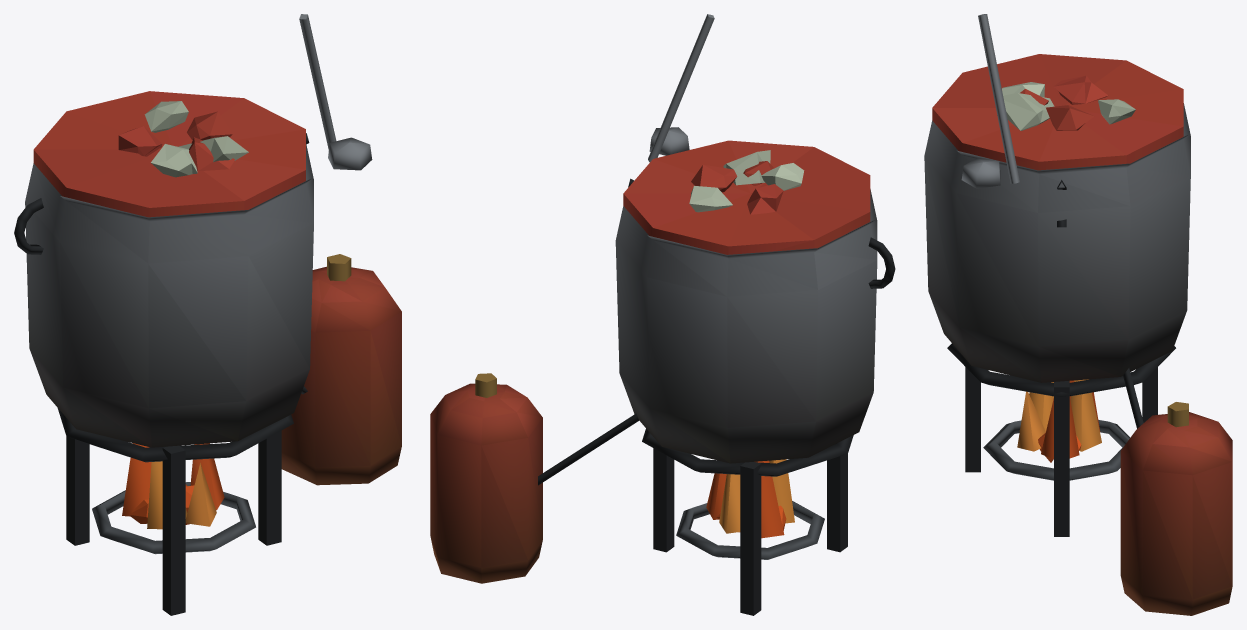
Rendered from crawfish-boil-pot.glb.
The picture shows the model from 3 angles, left to right: view 1: azimuth 30°, elevation 25°; view 2: azimuth 150°, elevation 25°; view 3: azimuth 270°, elevation 25°; orthographic projection. The views are drawn at different scales.
Parts seen in each view (by area): view 1: crawfish_boil_pot; view 2: crawfish_boil_pot; view 3: crawfish_boil_pot.
Boxes of the visible parts, x1=… form: crawfish_boil_pot: x1=14, y1=14, x2=401, y2=615; crawfish_boil_pot: x1=430, y1=14, x2=895, y2=615; crawfish_boil_pot: x1=924, y1=14, x2=1232, y2=615.
Bounding box in the file's own units: 1.2 × 1.45 × 0.7851.
